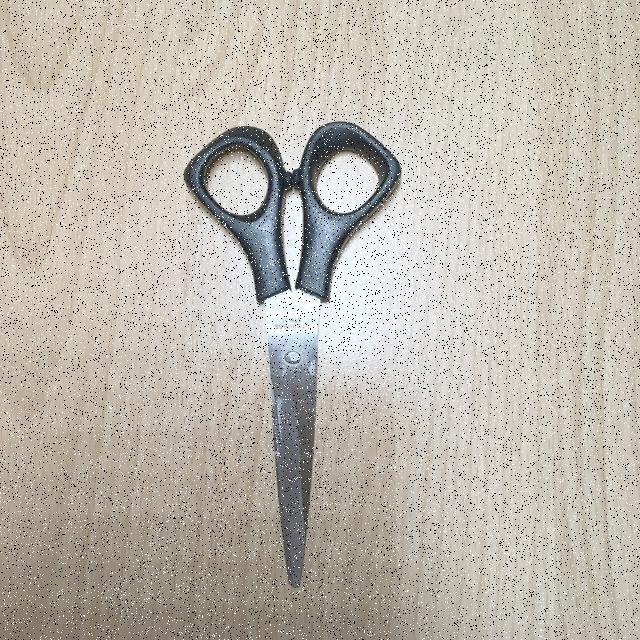scissors: (179, 119, 409, 592)
